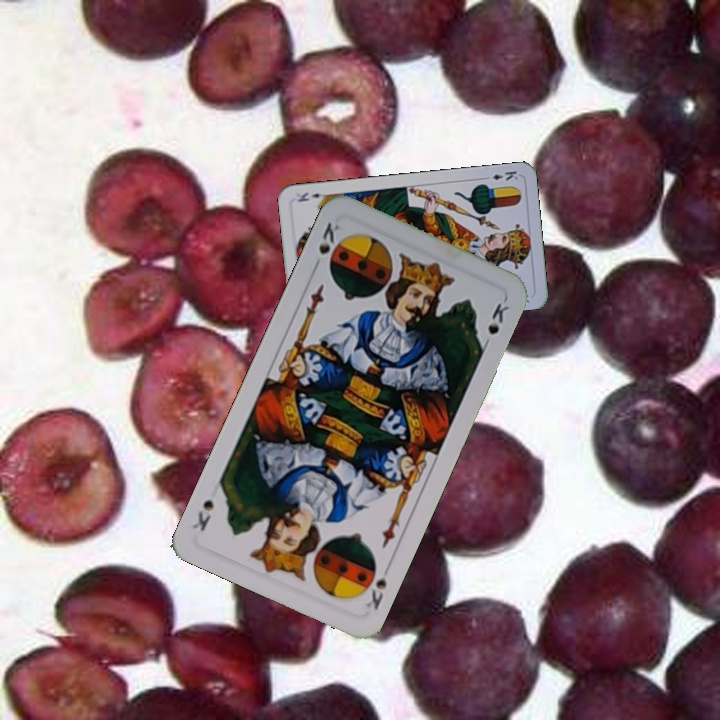EK: (480, 167, 520, 183)
SK: (358, 558, 394, 613), (314, 217, 343, 257)
